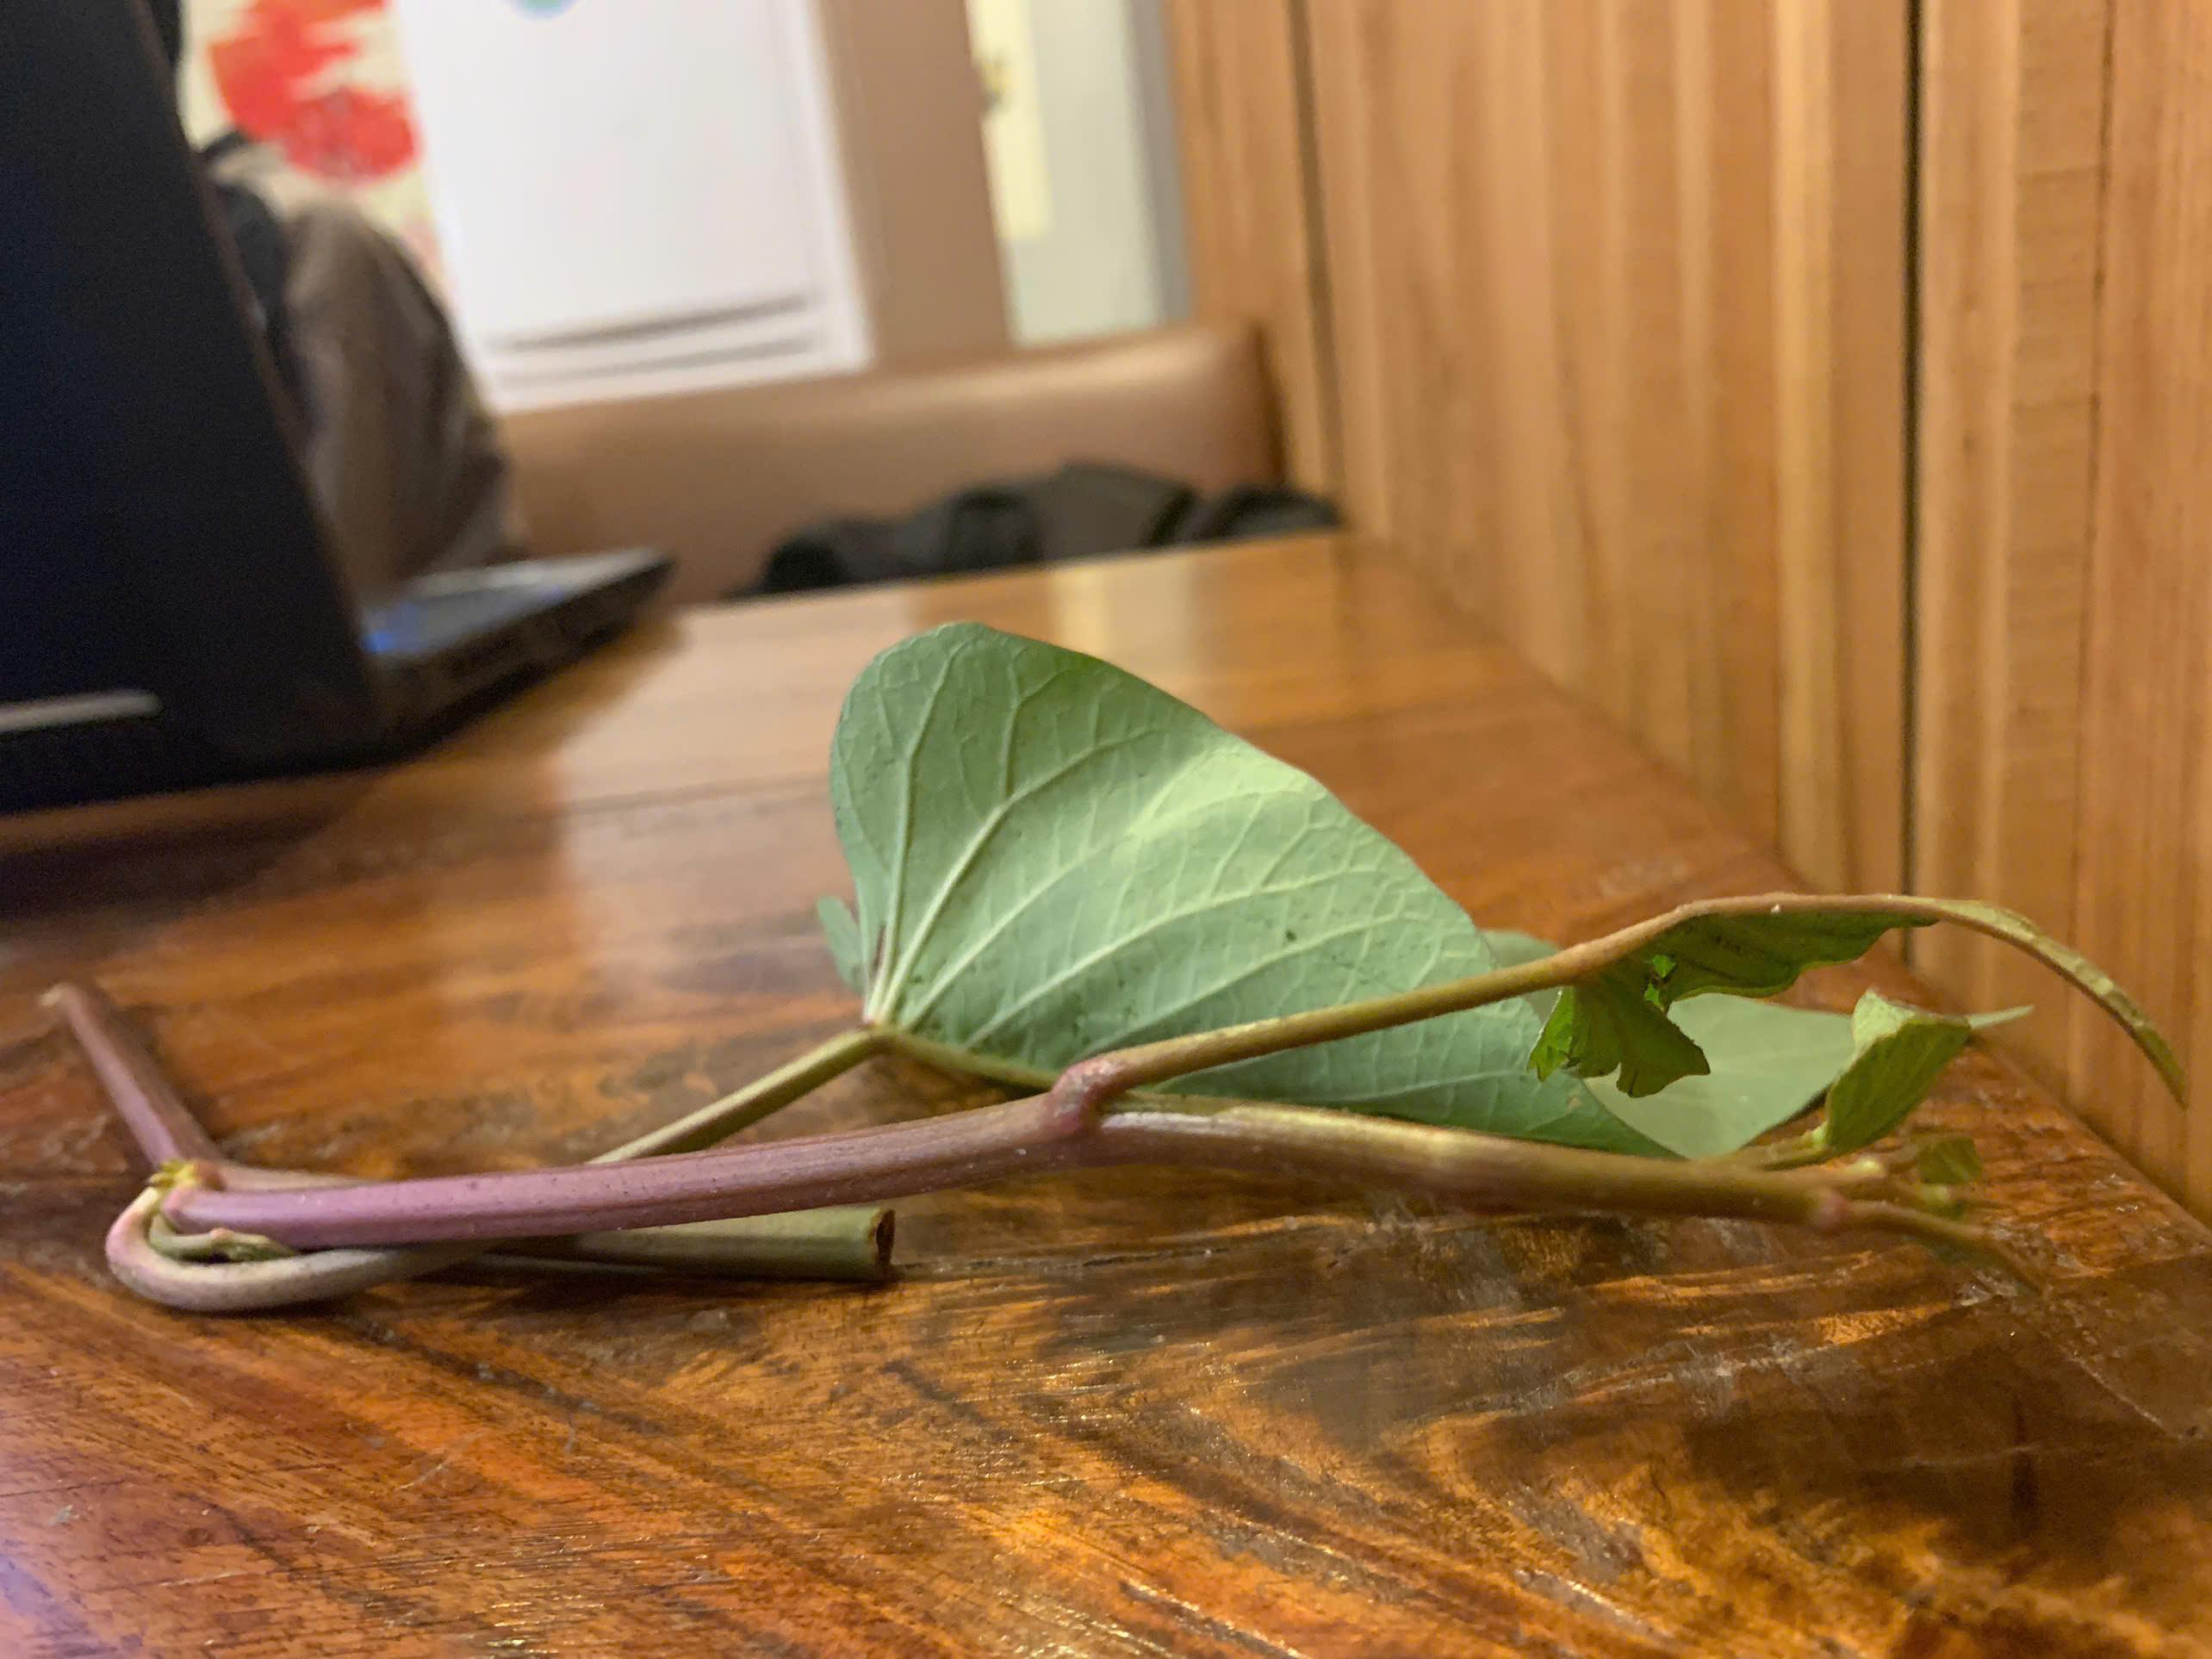Huu co: (141, 627, 2202, 1300)
